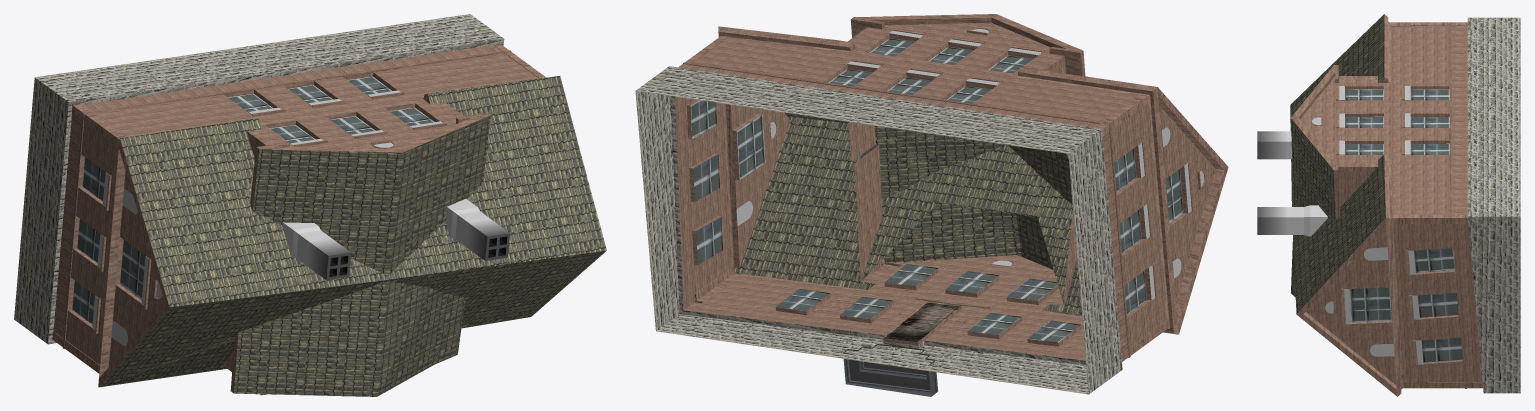
Rendered from Inseneri_2_1.obj.
3 views of the same model, side by side, from view 1: azimuth 30°, elevation 25°; view 2: azimuth 150°, elevation 25°; view 3: azimuth 270°, elevation 25° (orthographic). The views are drawn at different scales.
Visible parts, largest first — view 1: Inseneri_2_1; view 2: Inseneri_2_1; view 3: Inseneri_2_1.
Part boxes in pixels (bbox=[...]): Inseneri_2_1: bbox=[14, 14, 606, 396]; Inseneri_2_1: bbox=[635, 14, 1228, 396]; Inseneri_2_1: bbox=[1257, 14, 1520, 396].
Bounding box in the file's own units: 18.6 × 11.94 × 11.78.
